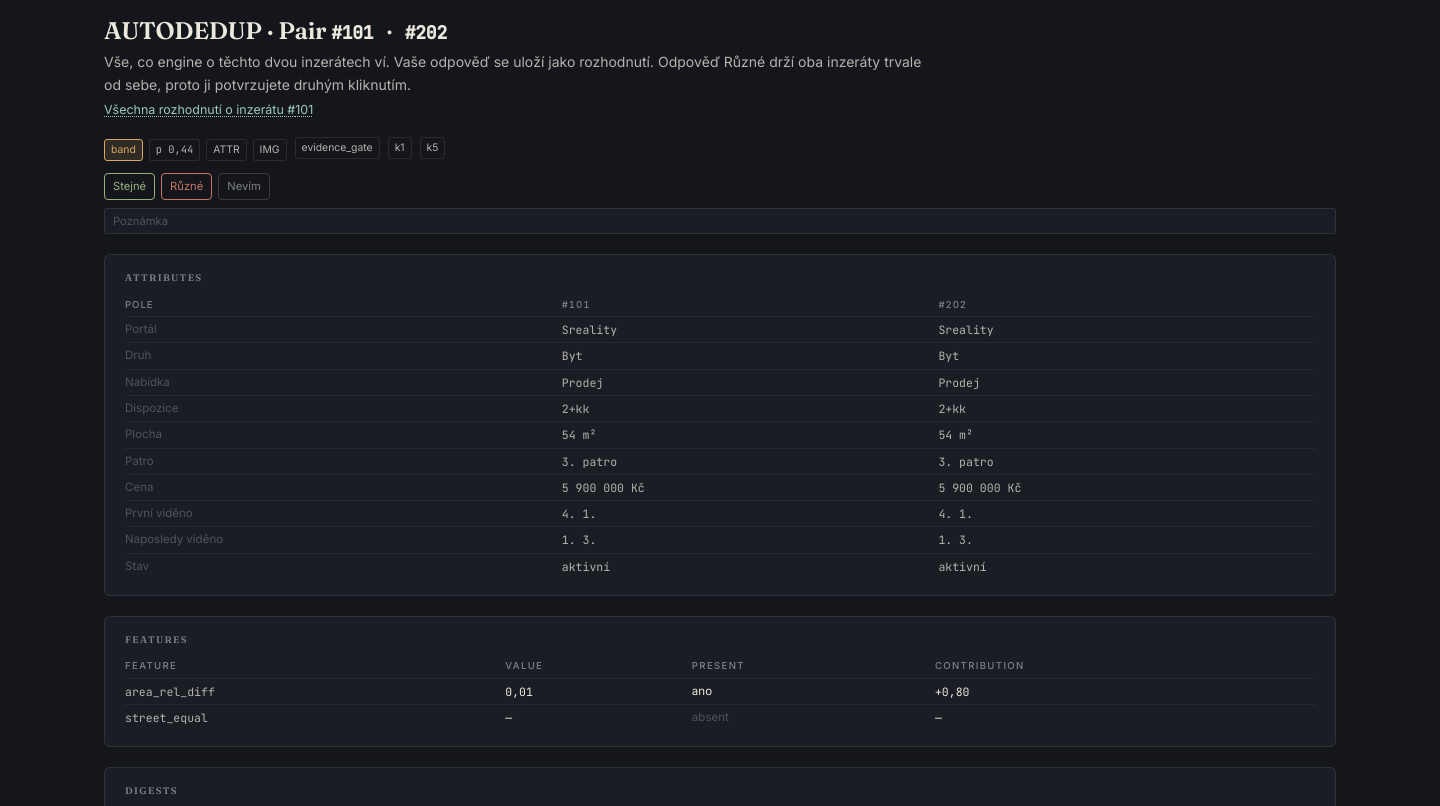
Test: <AutodedupPair> › arrives blind from a blind queue and un-blinds on the operator's own verdict
expect the text "soudce: stejná nemovitost" is not shown: met
expect the text "same kitchen tiles" is not shown: met
Click the button "Stejné": [130, 186] box [104,173,155,200]
(page scrolled)
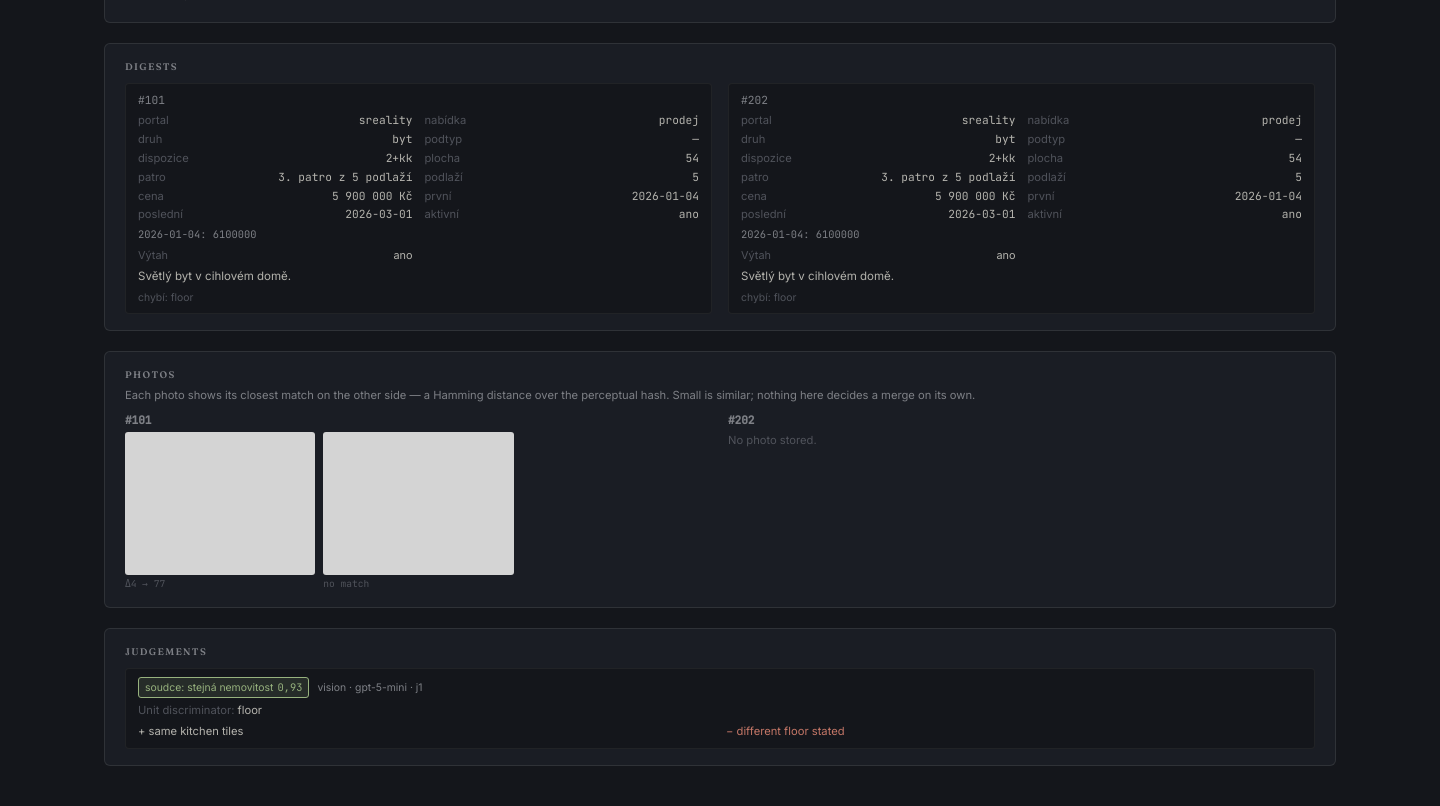
expect the text "soudce: stejná nemovitost 0,93" is shown: met, box [138,677,309,698]
